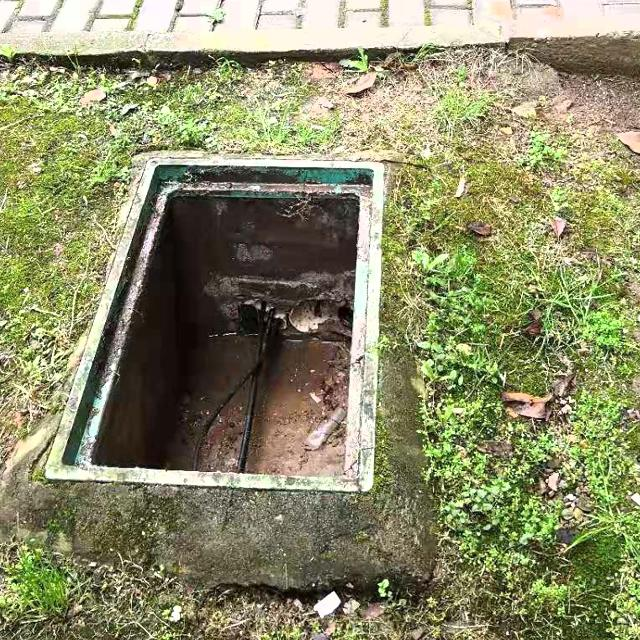lose: (51, 151, 390, 498)
